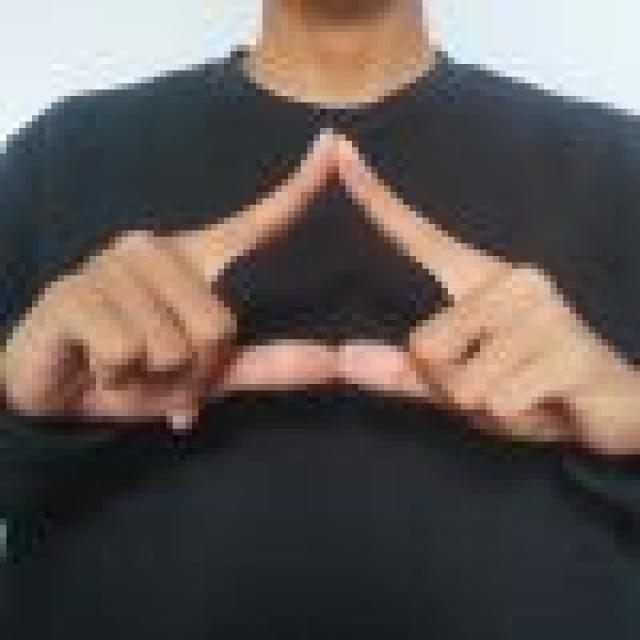A: (0, 128, 640, 454)
